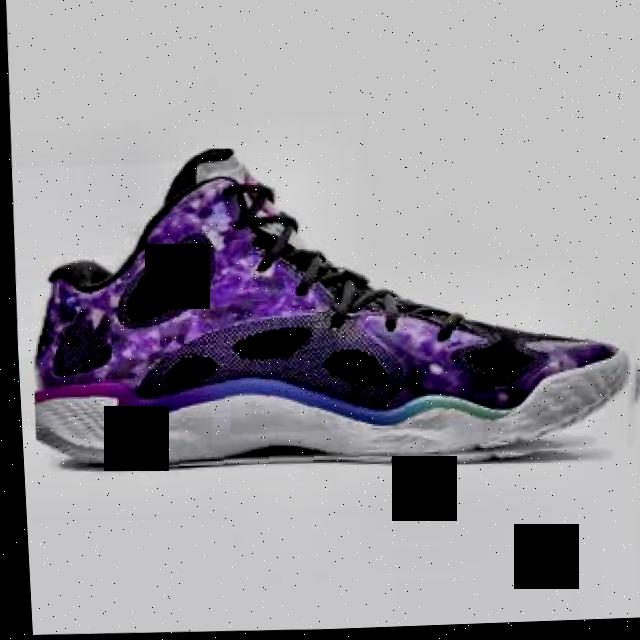shoe: (19, 134, 640, 483)
